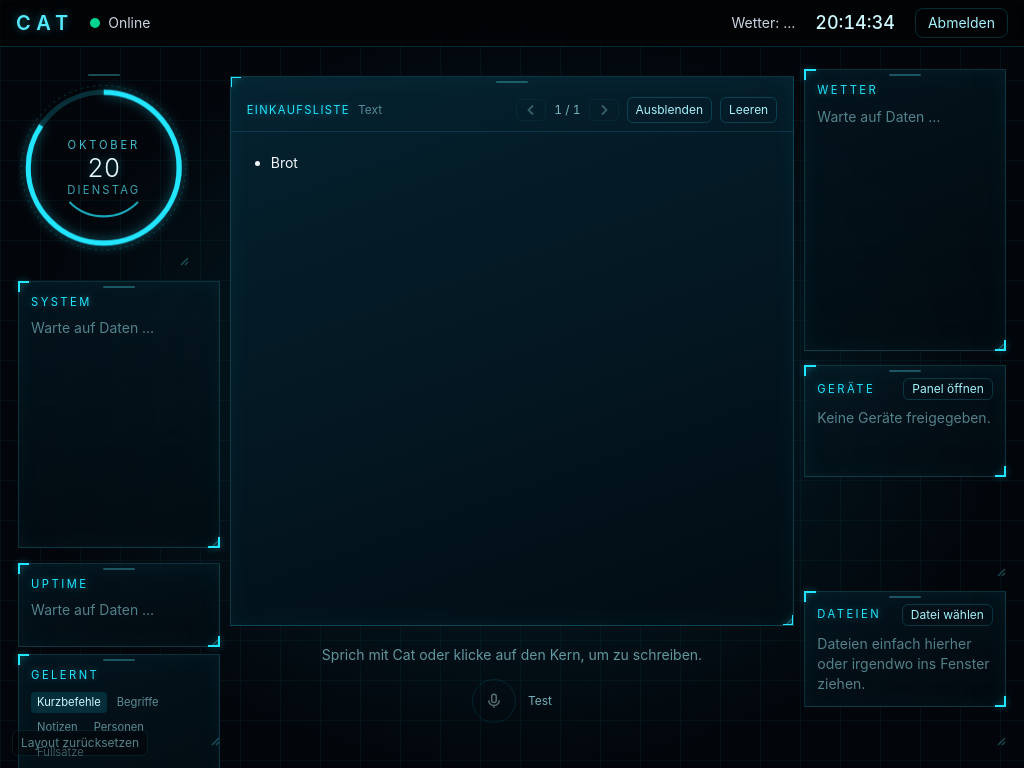
Dashboard (Arbeitsraum) › legt die Stage über den Kern und blendet sie aus, ohne zu löschen
Expected: the element named "Stage" is shown, top-left (230, 76), bottom-right (794, 626)
Click the button "Ausblenden" at (669, 110), box top-left (626, 97), bottom-right (712, 123)
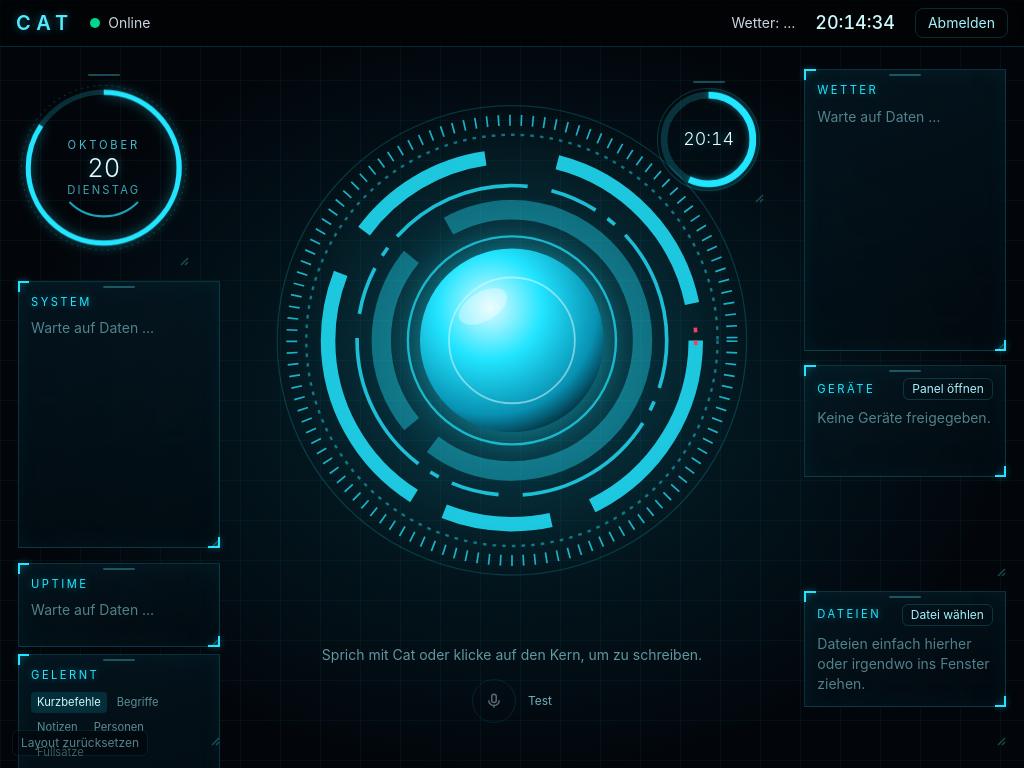
Expected: the picture named "Cat wartet" is shown, top-left (270, 76), bottom-right (754, 605)
Result: the field labelled "Stage" is gone
